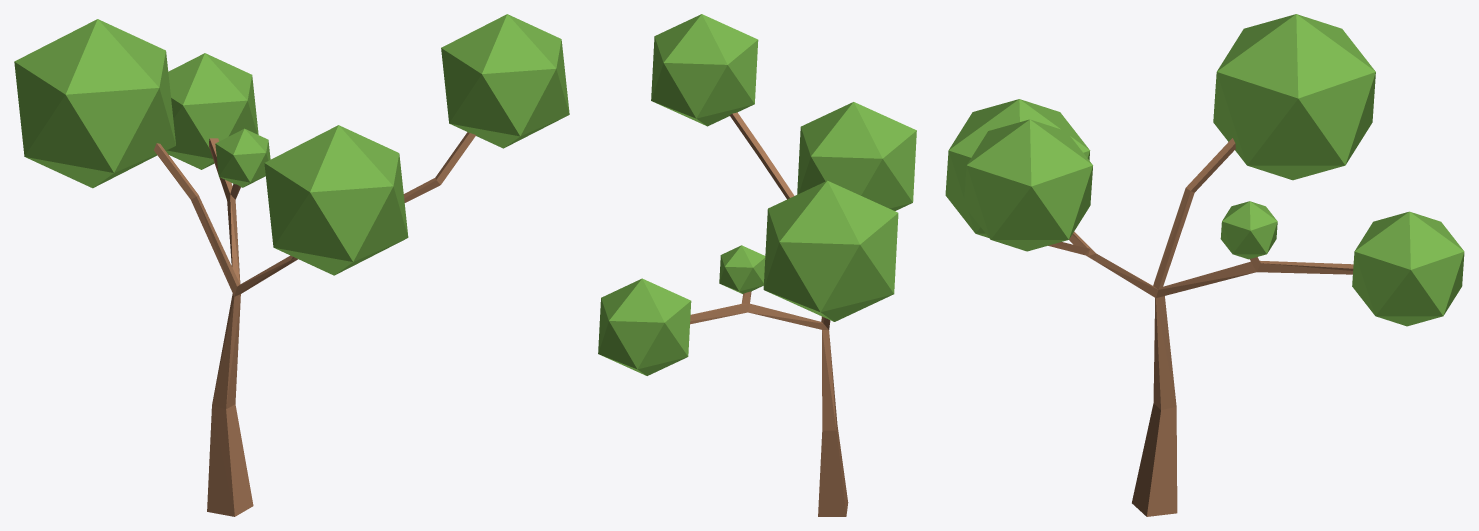
File: tree3.fbx
The picture shows the model from 3 angles, left to right: view 1: azimuth 30°, elevation 25°; view 2: azimuth 150°, elevation 25°; view 3: azimuth 270°, elevation 25°; orthographic projection. The views are drawn at different scales.
Visible parts, largest first — view 1: tree1.003; view 2: tree1.003; view 3: tree1.003.
Part boxes in pixels (x1,y1,x2,y2): tree1.003: (14, 14, 569, 516); tree1.003: (598, 14, 916, 516); tree1.003: (945, 14, 1464, 516).
Size of the model in its own units: 646 by 736 by 695.
